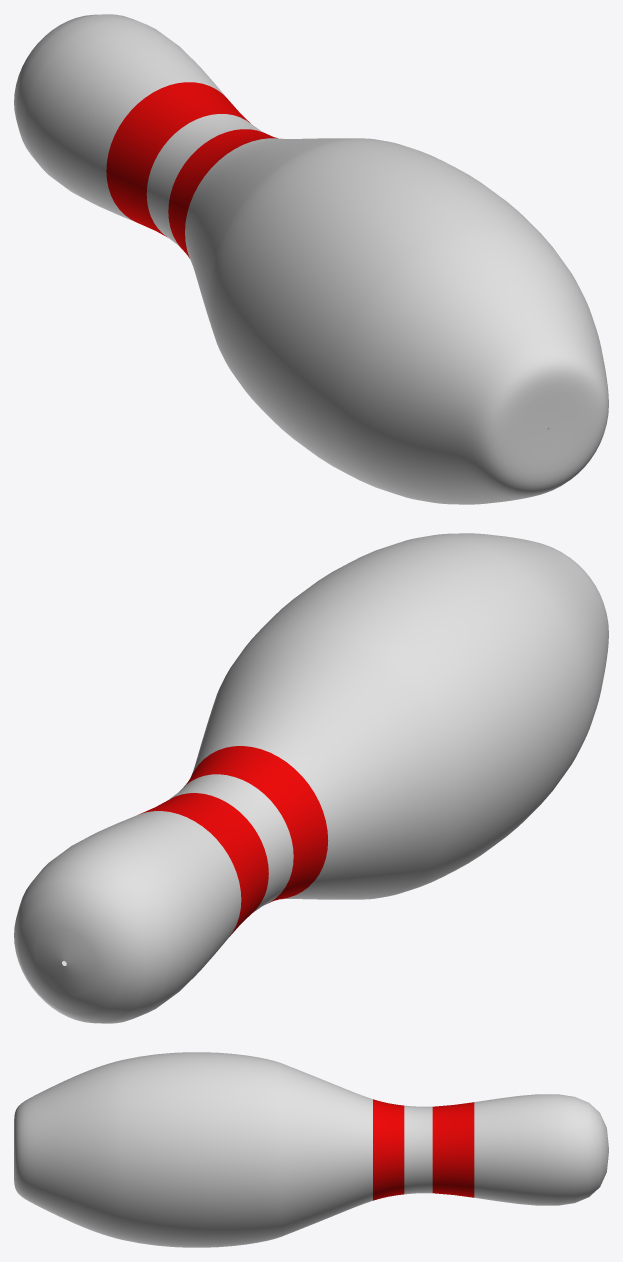
File: pin.fbx
3 renders of one model, top to bottom at view 1: azimuth 30°, elevation 25°; view 2: azimuth 150°, elevation 25°; view 3: azimuth 270°, elevation 25°, orthographic. The views are drawn at different scales.
Parts seen in each view (by area): view 1: BezierCurve; view 2: BezierCurve; view 3: BezierCurve.
Part boxes in pixels (x1,y1,x2,y2): BezierCurve: (14, 14, 608, 504); BezierCurve: (14, 533, 608, 1023); BezierCurve: (14, 1052, 608, 1247).
Bounding box in the file's own units: 183 × 182 × 555.
